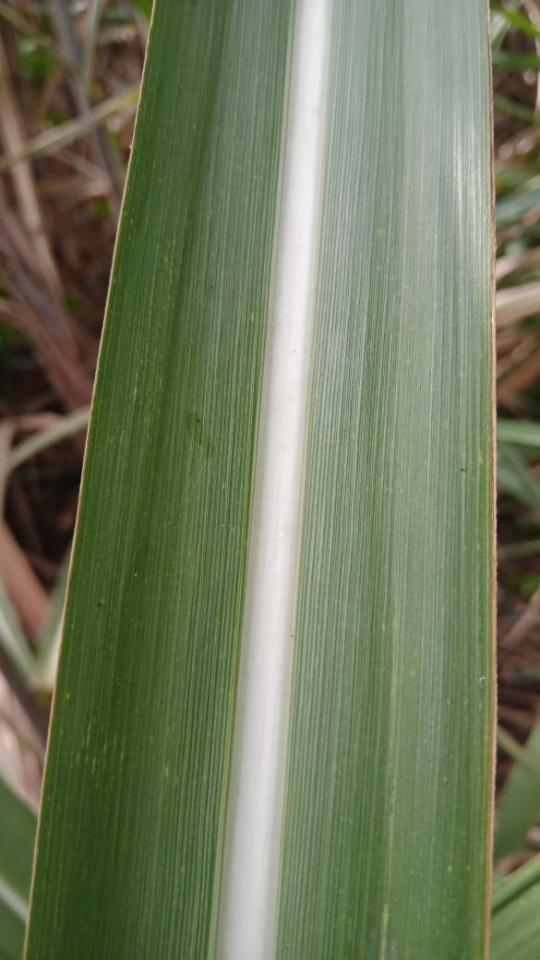Healthy: (21, 0, 492, 959)
